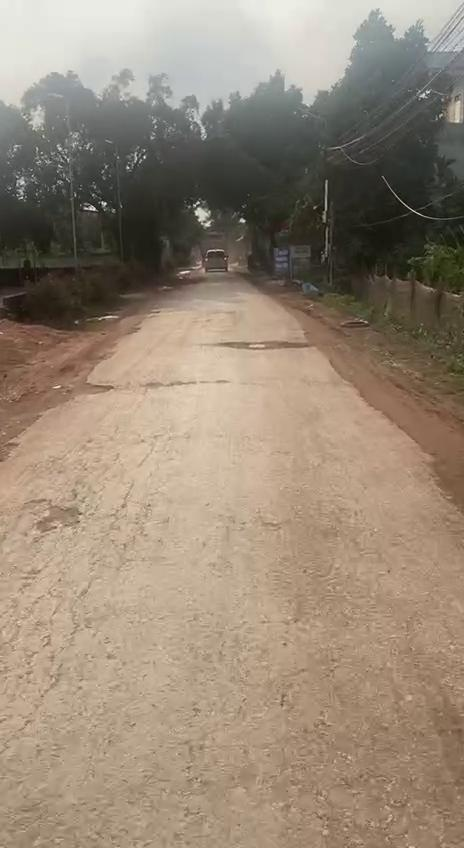pothole: (214, 336, 318, 352)
